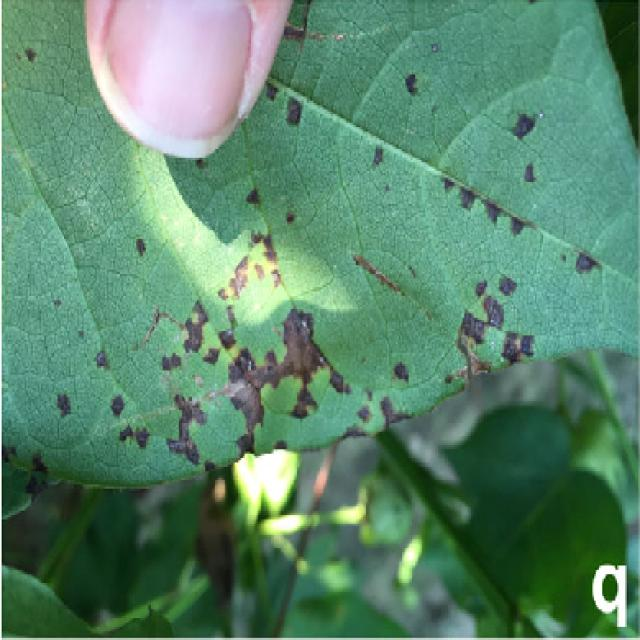Bacterial Blight: (120, 202, 523, 431)
